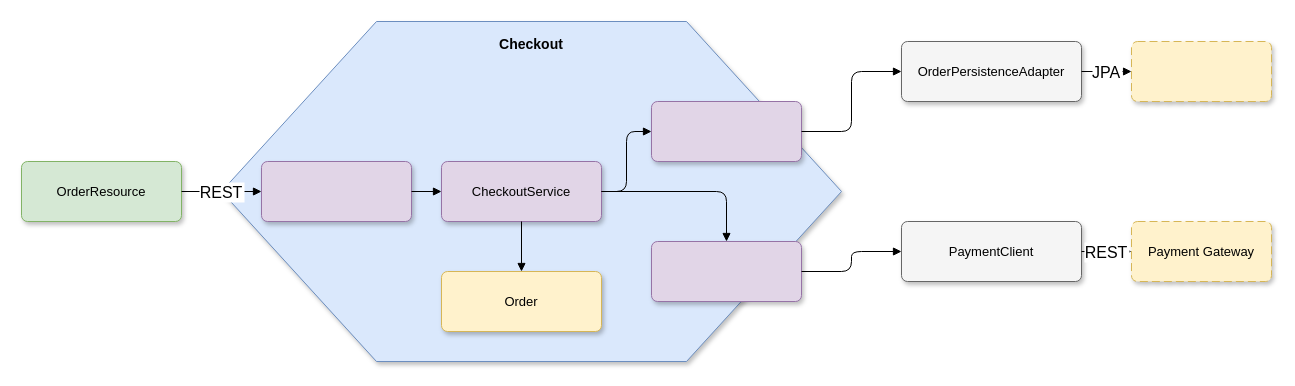
Image size: 1295x386. Some labels were removed from this diagram. Here are the shapes that lost their labels. From the top down, the centre of each, then its label:
point (1202, 72): Database
point (727, 132): LoadOrderPort
point (337, 192): PlaceOrderUseCase
point (727, 272): ChargePaymentPort
